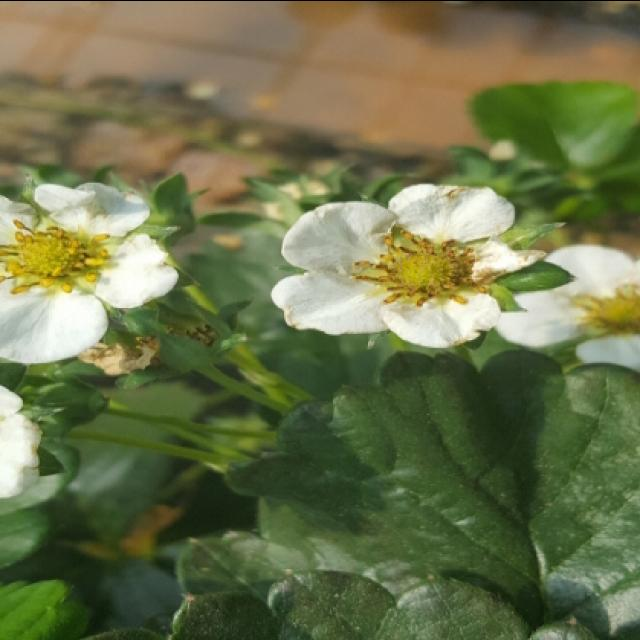Blossom Blight: (345, 221, 498, 312), (0, 219, 115, 300)
